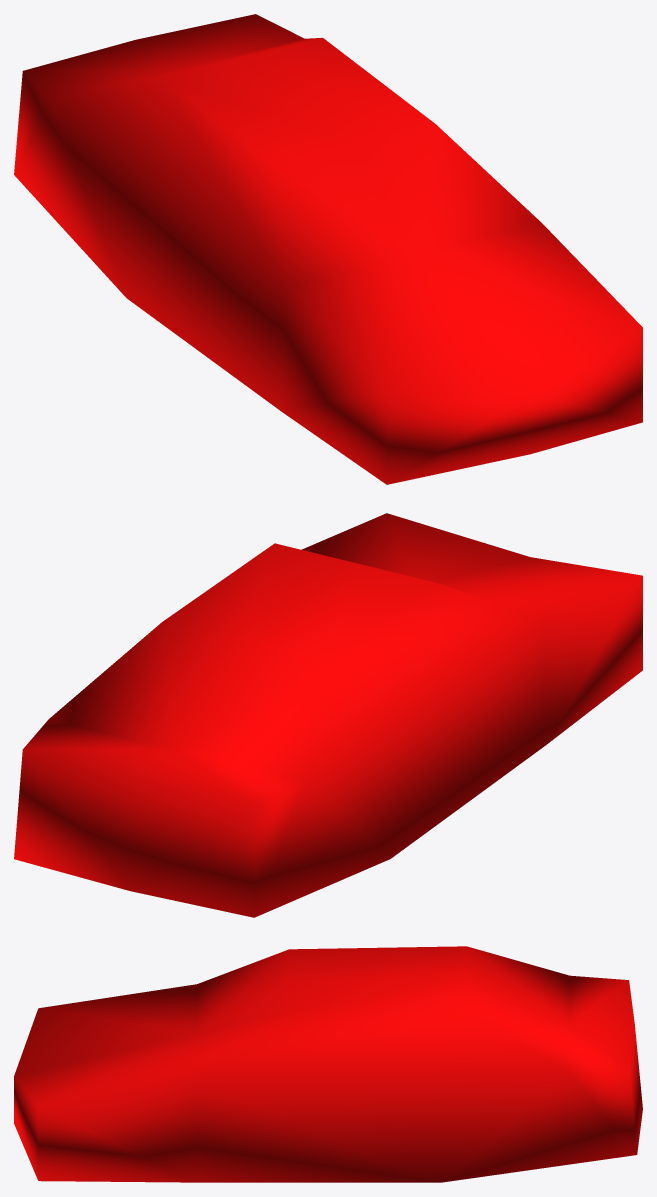
File: car_06_collider.fbx
3 renders of one model, top to bottom at view 1: azimuth 30°, elevation 25°; view 2: azimuth 150°, elevation 25°; view 3: azimuth 270°, elevation 25°, orthographic. The views are drawn at different scales.
Visible parts, largest first — view 1: Mesh; view 2: Mesh; view 3: Mesh.
Boxes of the visible parts, box(x1,y1,x2,y2) form: Mesh: box(14, 14, 642, 484); Mesh: box(14, 513, 642, 917); Mesh: box(14, 946, 642, 1182).
Bounding box in the file's own units: 180 × 128 × 472.
